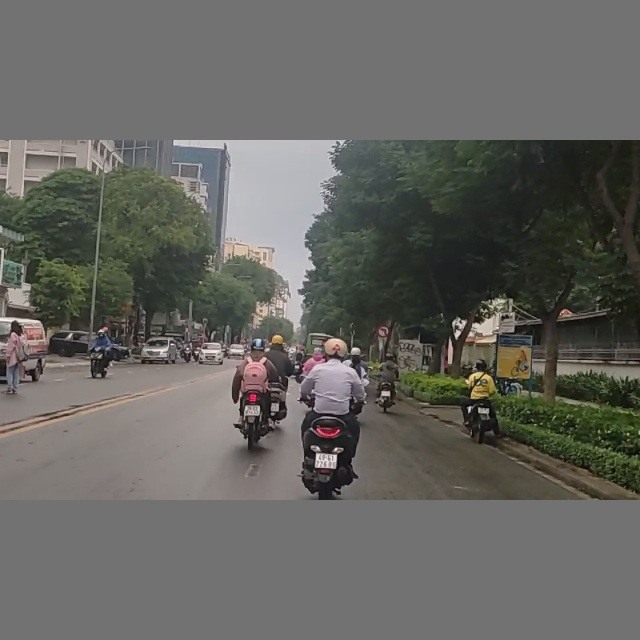P.123a: (377, 325, 391, 337)
